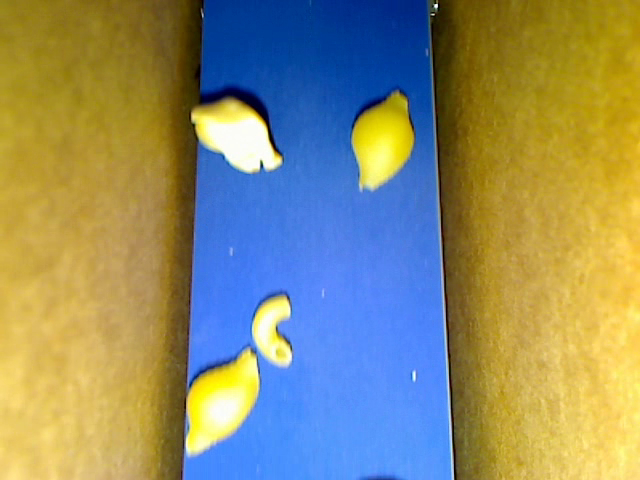elbow: (251, 293, 292, 367)
shell: (185, 346, 259, 454), (351, 90, 413, 190)
tortellini: (190, 96, 282, 171)
